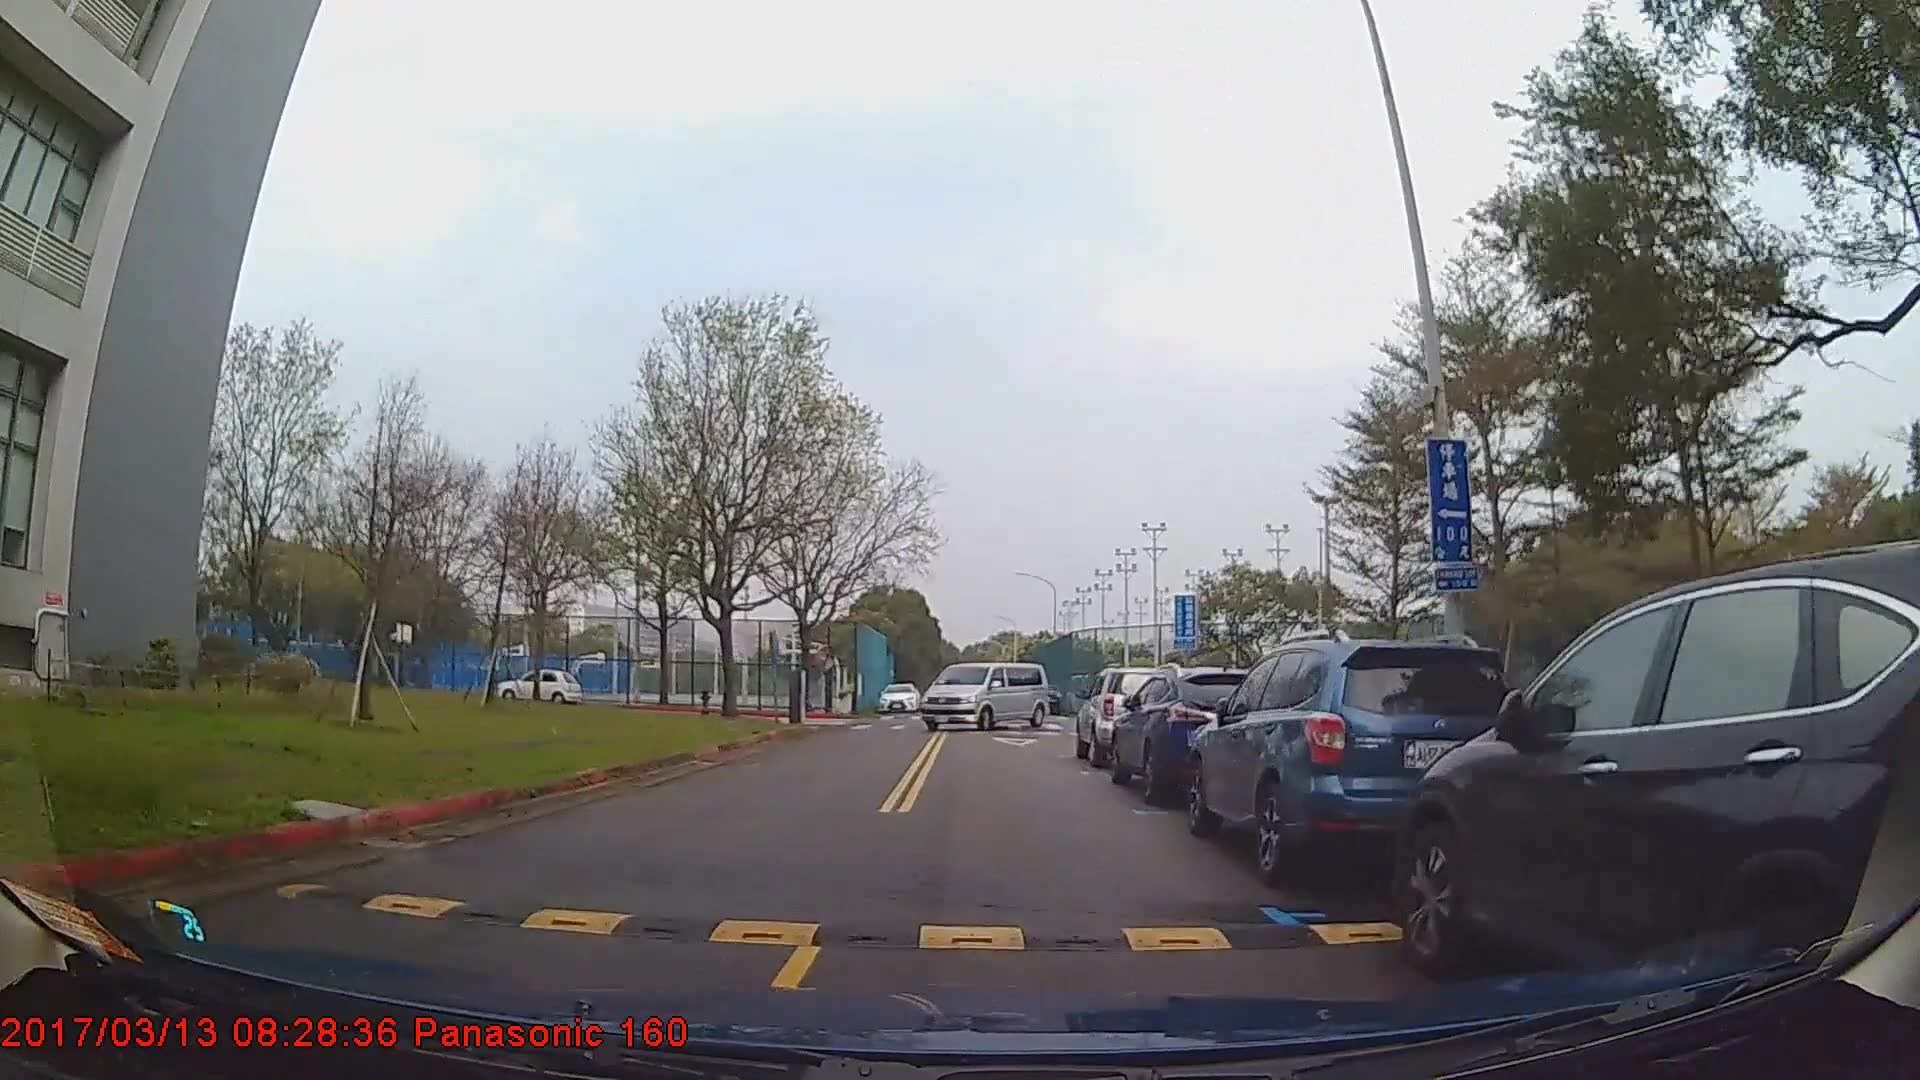vehicle: (1395, 539, 1920, 1007), (1182, 637, 1526, 876), (1106, 661, 1273, 800), (1073, 662, 1174, 764), (916, 659, 1048, 731), (496, 663, 582, 705), (876, 680, 916, 712)
